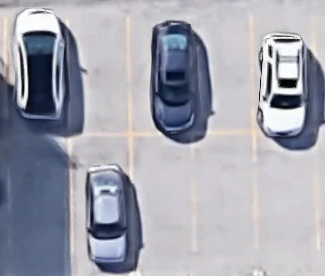Occupied: (5, 15, 69, 135), (130, 17, 194, 136), (68, 134, 132, 252), (253, 17, 316, 134)
Vacant: (130, 133, 194, 252), (5, 135, 69, 251), (254, 134, 318, 250), (68, 16, 130, 135), (194, 133, 255, 249), (194, 17, 253, 132)
